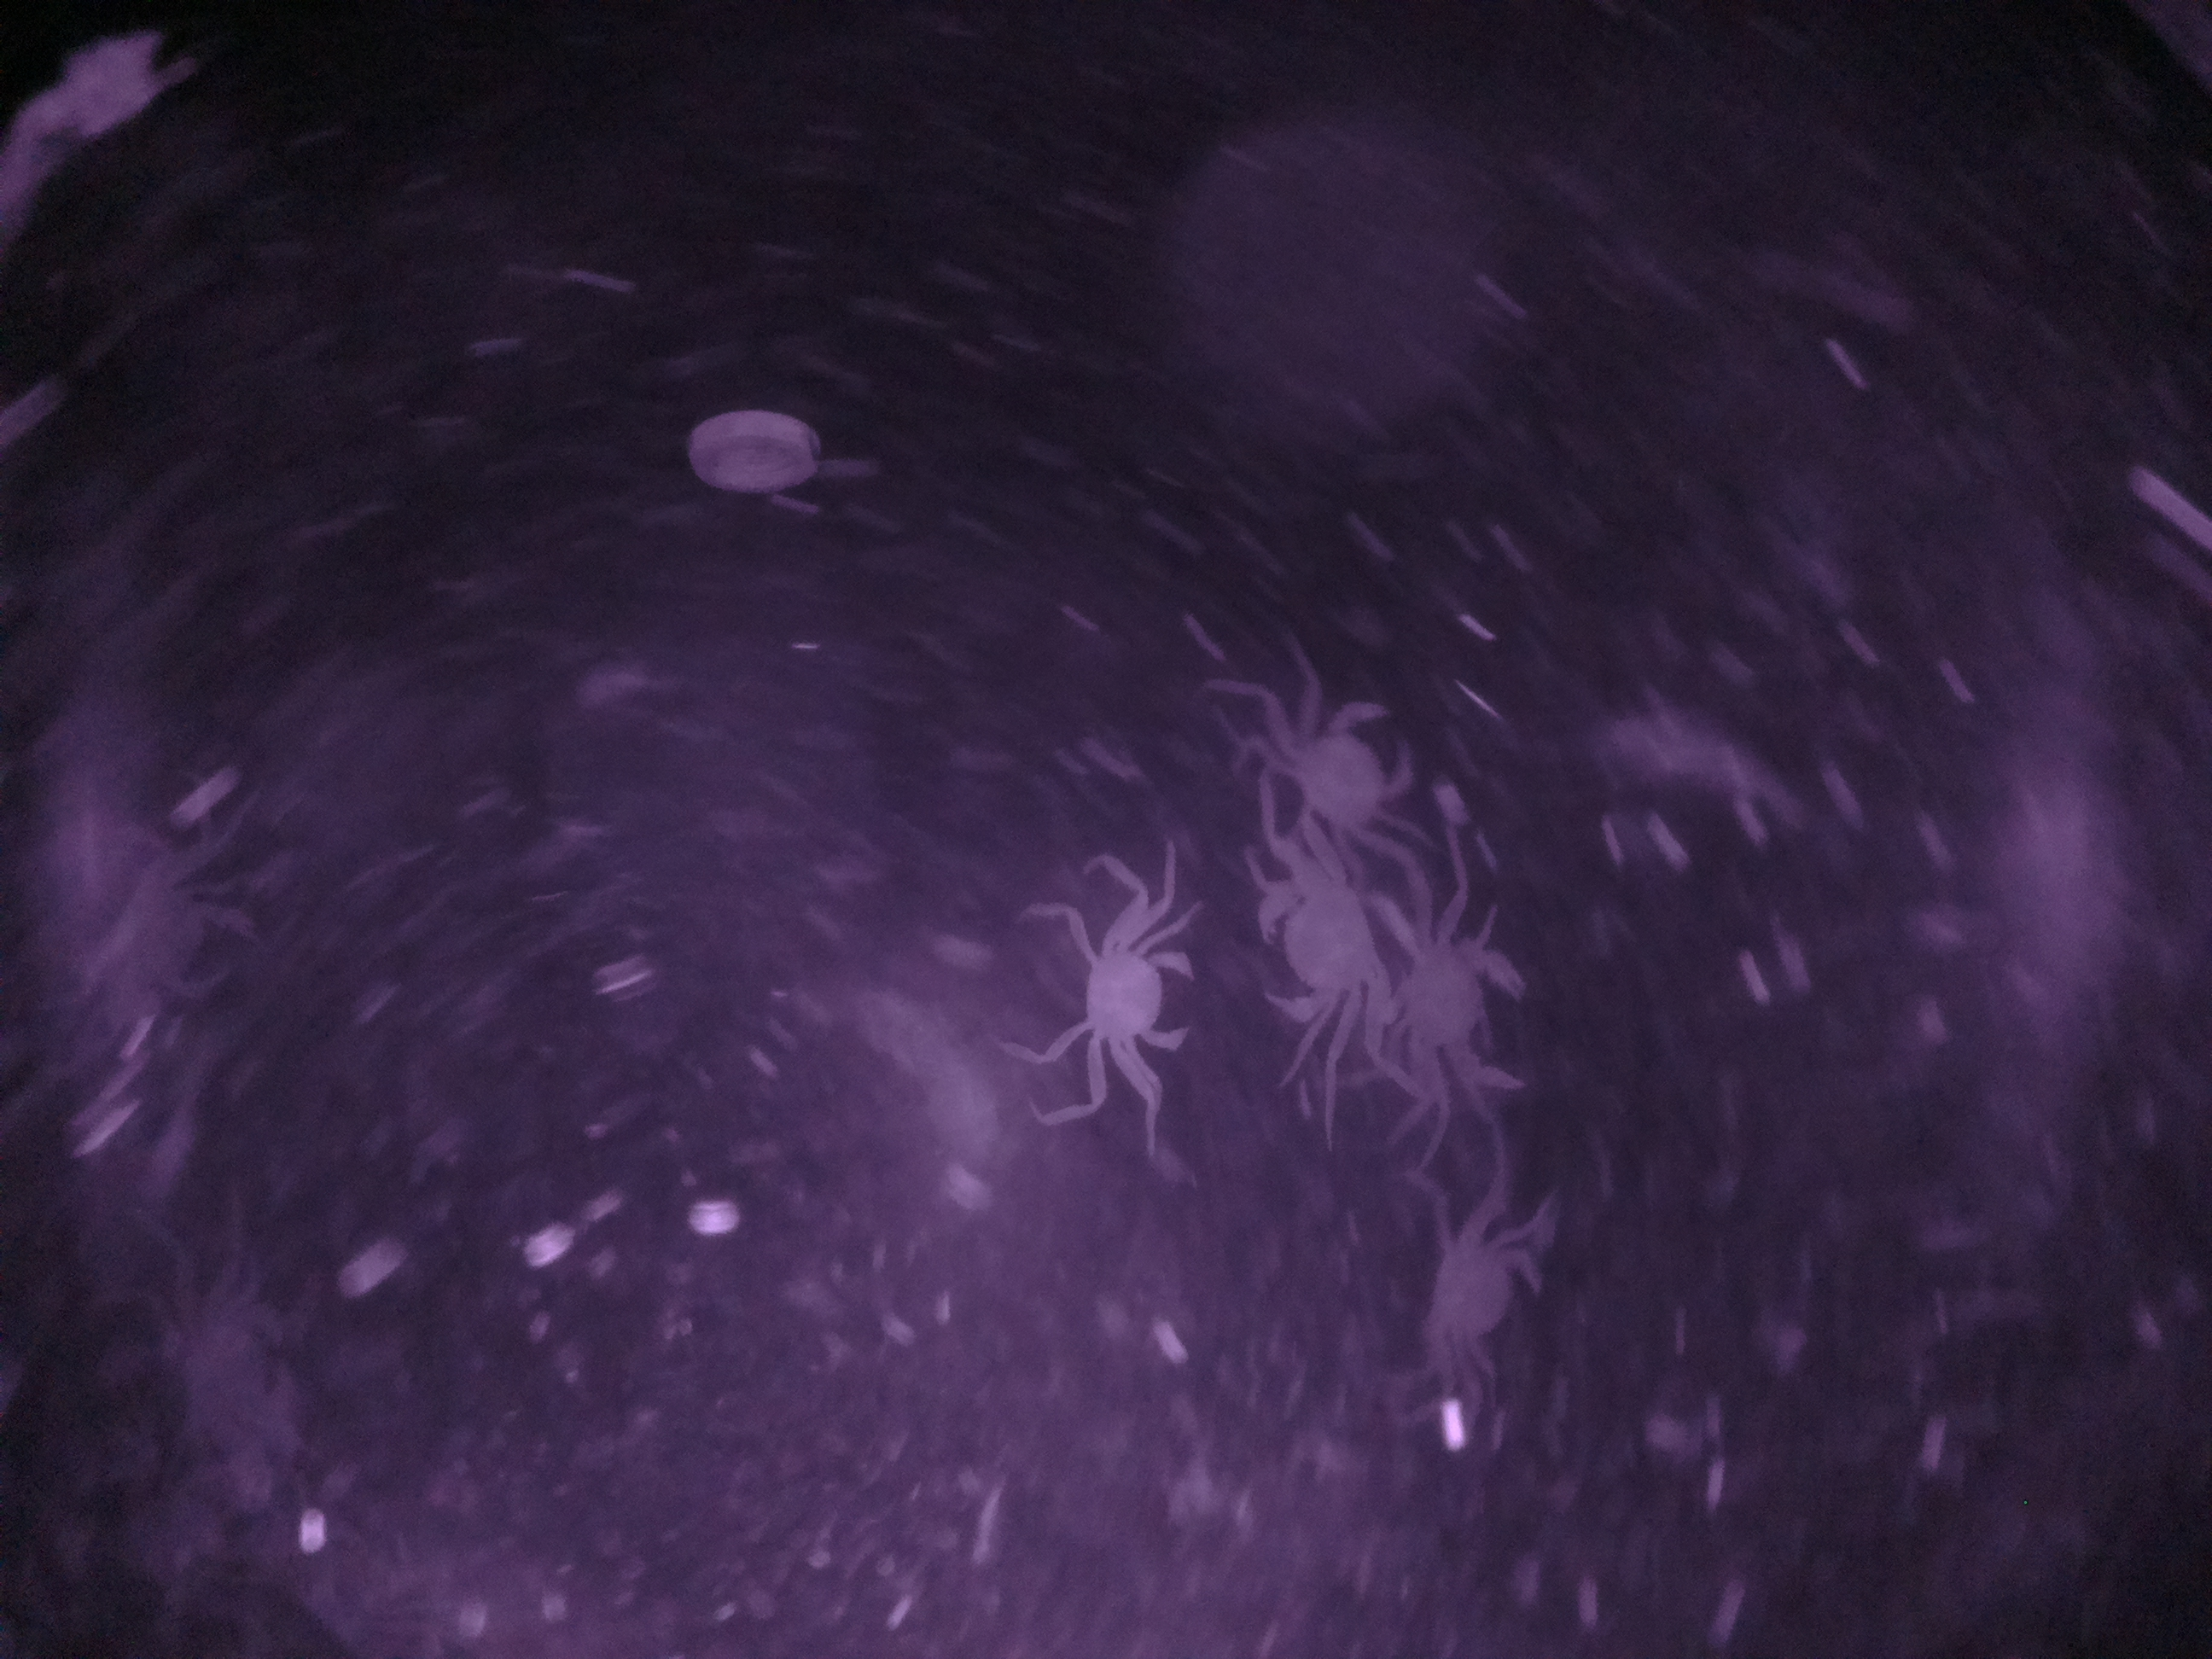Crab: (1226, 831, 1400, 1056), (1390, 899, 1547, 1126), (1059, 889, 1195, 1086)
